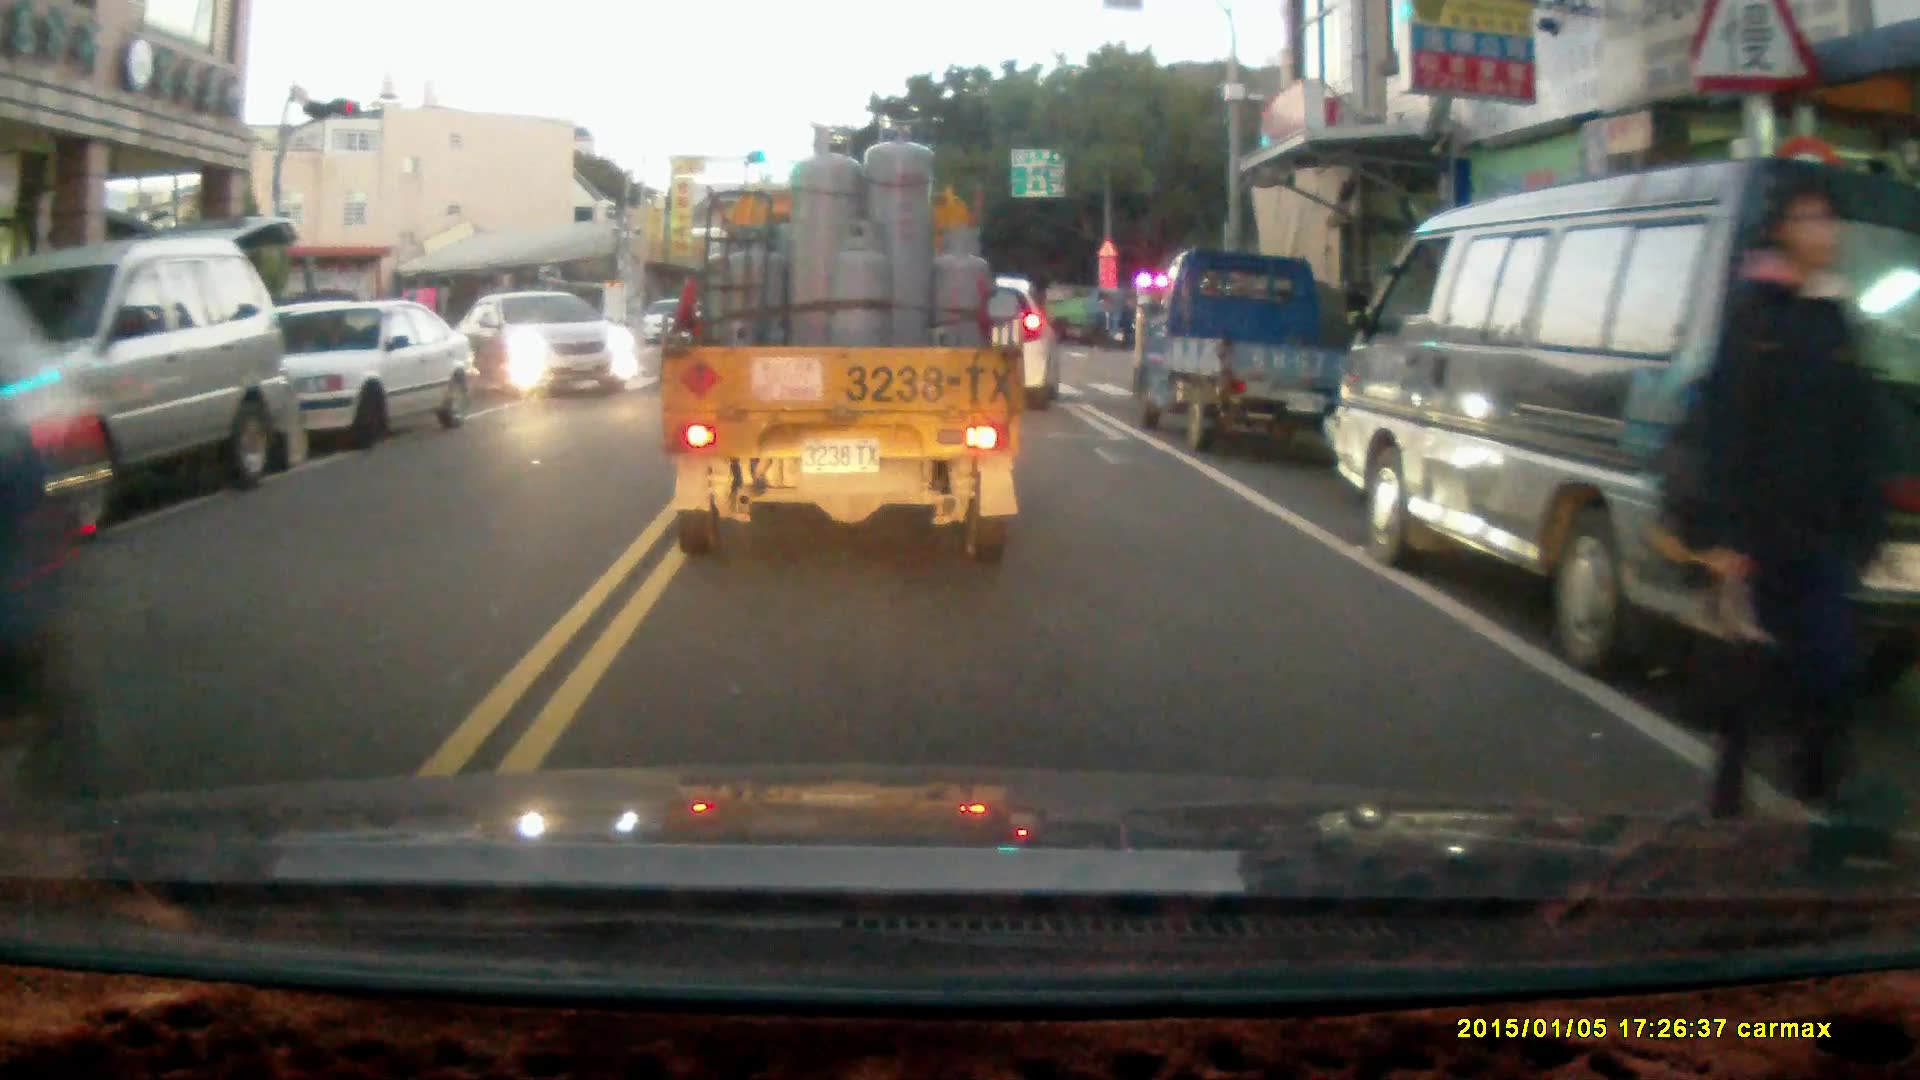pedestrian: (1677, 182, 1887, 842)
vehicle: (1323, 150, 1920, 693), (664, 121, 1033, 565), (1, 236, 284, 520), (1128, 241, 1357, 447), (233, 299, 480, 466), (893, 268, 1061, 409), (462, 288, 640, 400)
